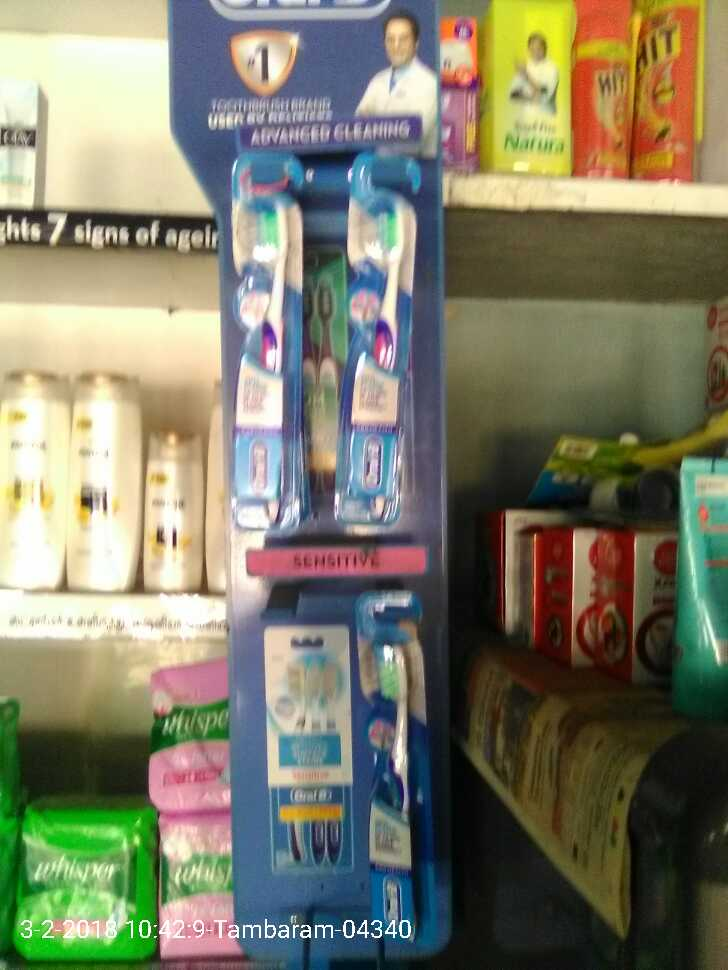beauty: (224, 147, 310, 530), (343, 146, 415, 526), (68, 368, 142, 596), (1, 365, 71, 583), (147, 423, 206, 596), (1, 76, 46, 212)
pharmacy: (356, 592, 424, 939), (18, 801, 158, 956), (152, 663, 229, 808)
